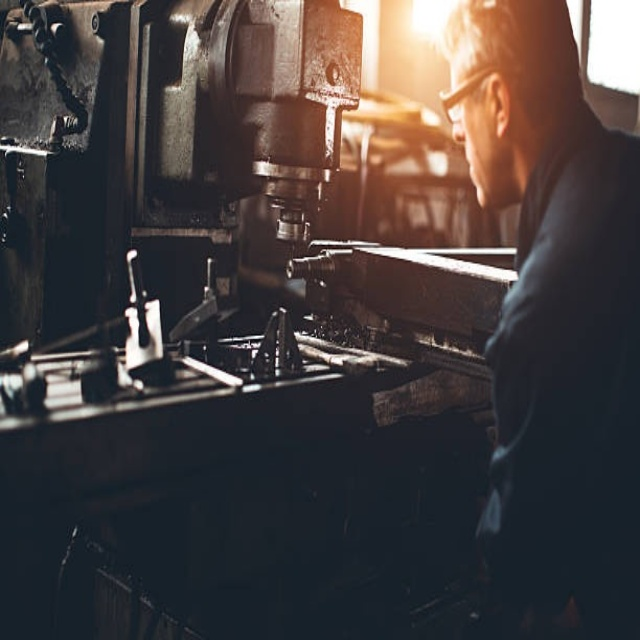Gafas: (437, 67, 497, 121)
Sin_mascara: (452, 130, 500, 205)
